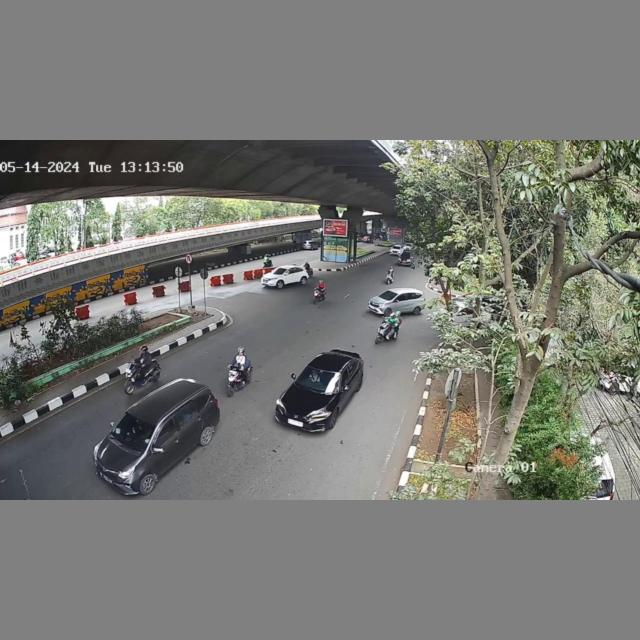windshield: (111, 412, 154, 450), (295, 361, 341, 396)
